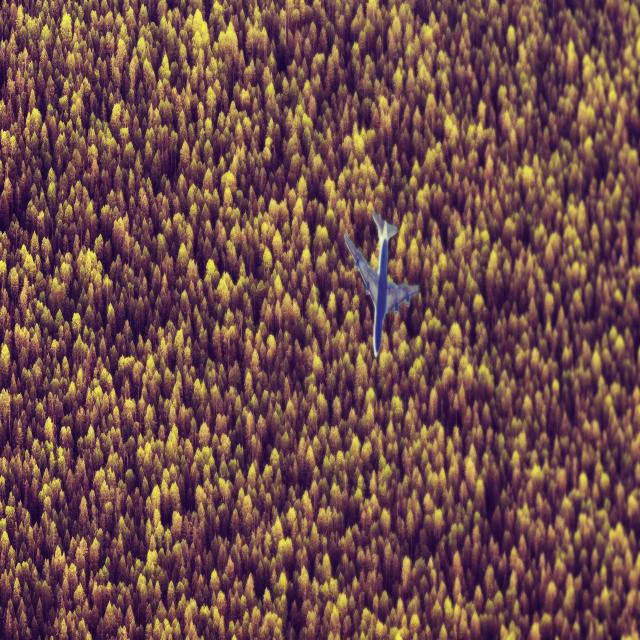airplane: (343, 209, 420, 358)
